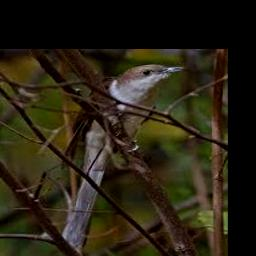Cuckoo: (59, 64, 182, 245)
